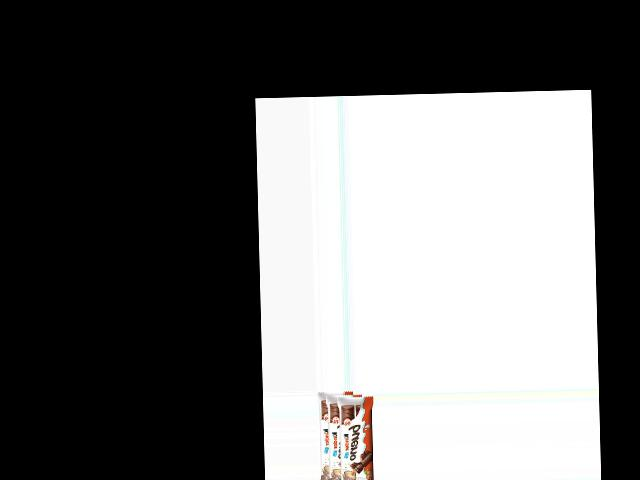chocolate: (317, 391, 376, 480)
